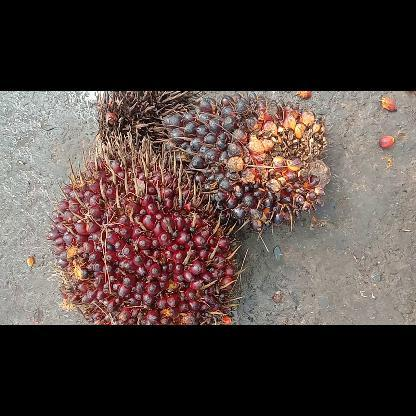Janjang kosong: (96, 90, 202, 152)
TBS masak: (47, 126, 245, 324)
TBS mentah: (164, 92, 330, 238)
